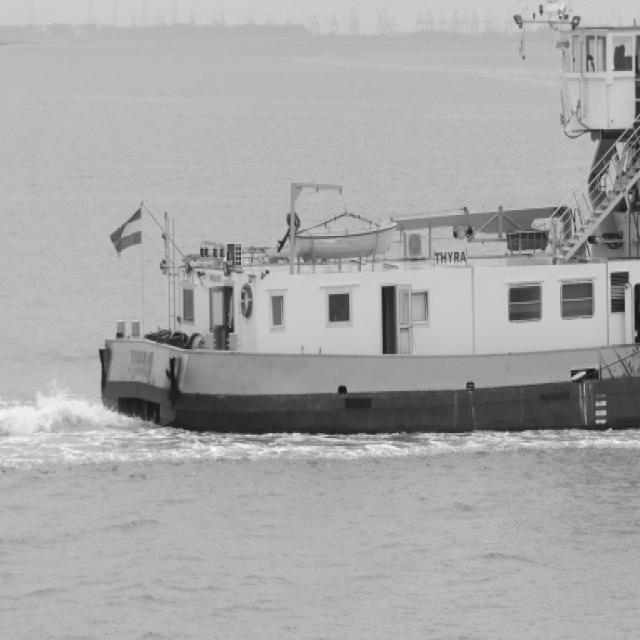tugboat: (81, 1, 640, 445)
